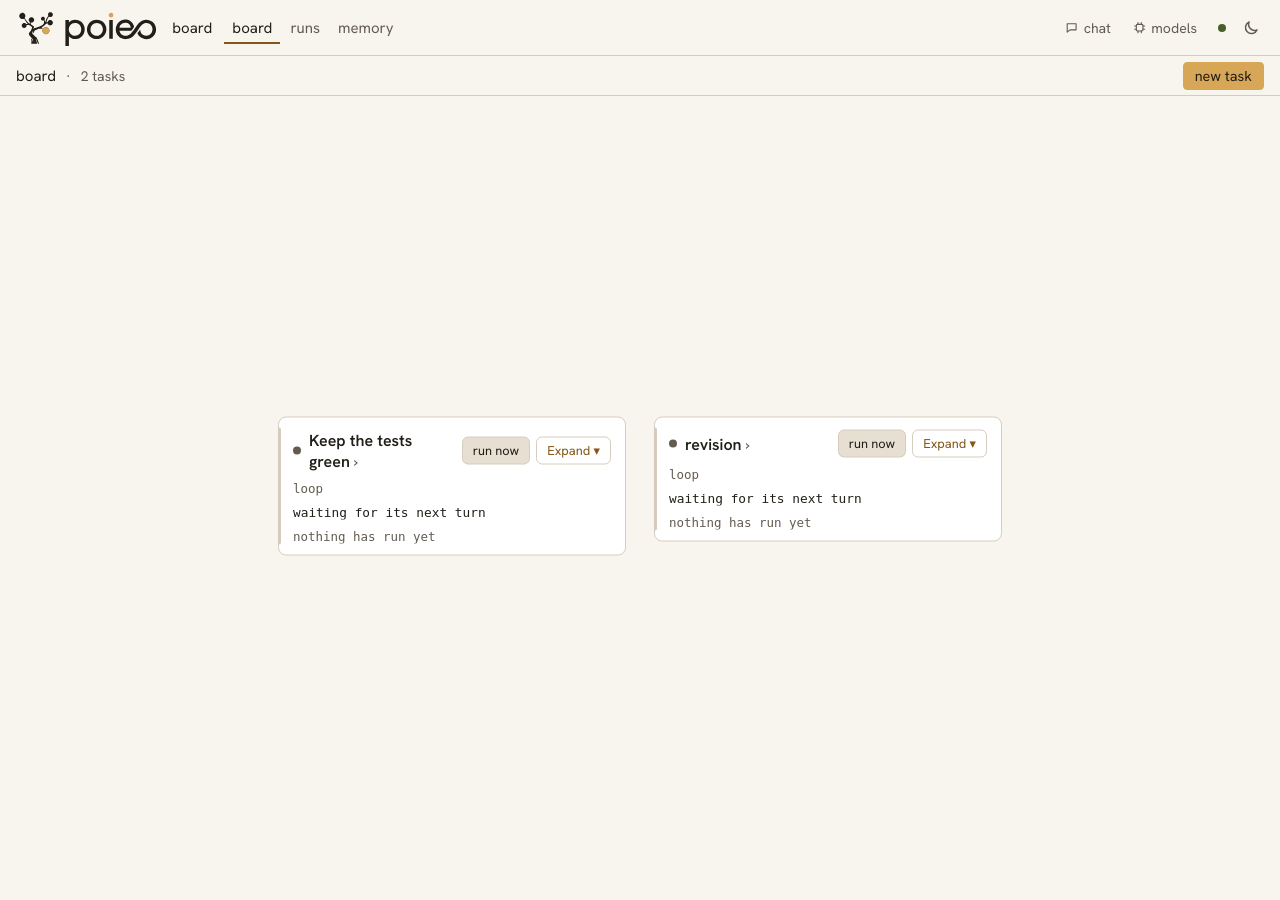
the drawer opens under the card's title
Click the button with class "basic-pick" showing "Keep the tests green" at (374, 450), box [293,430,456,472]
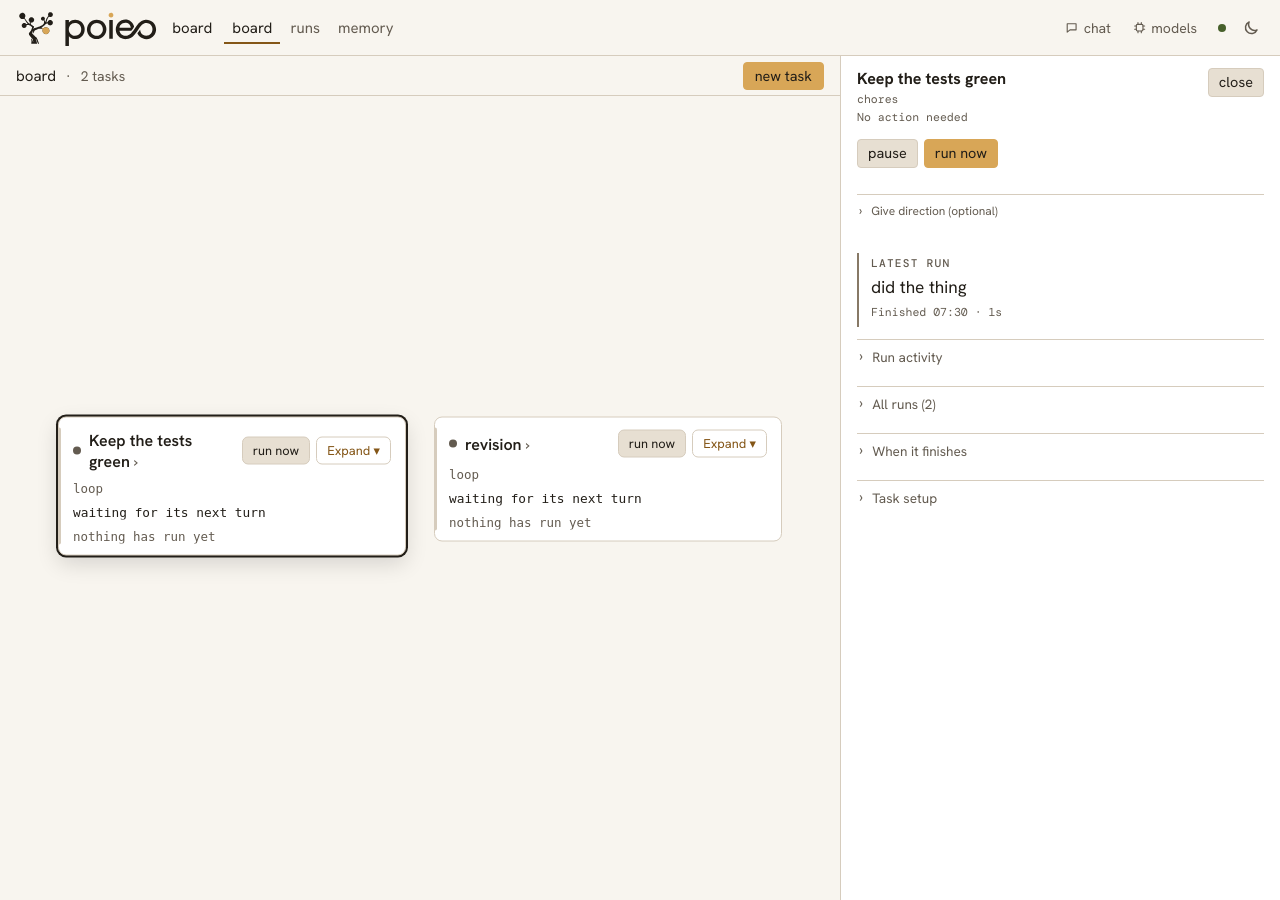
Expected: the heading "Keep the tests green" is shown, [857,68,1006,89]
